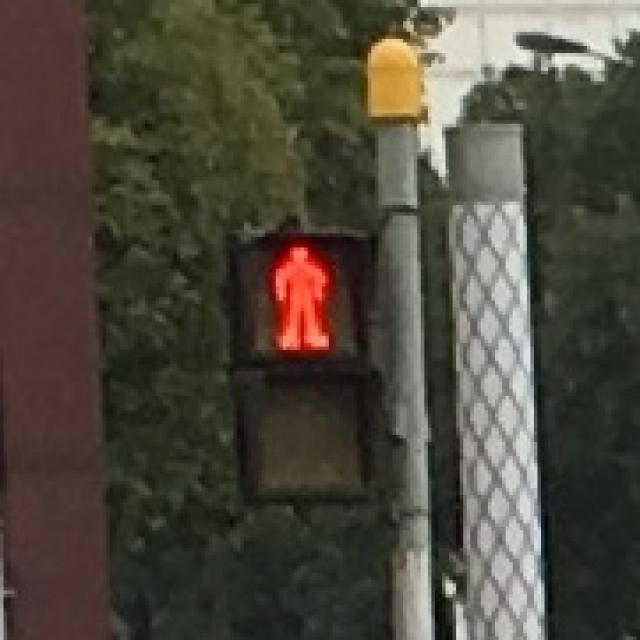red-crossing: (251, 233, 343, 357)
